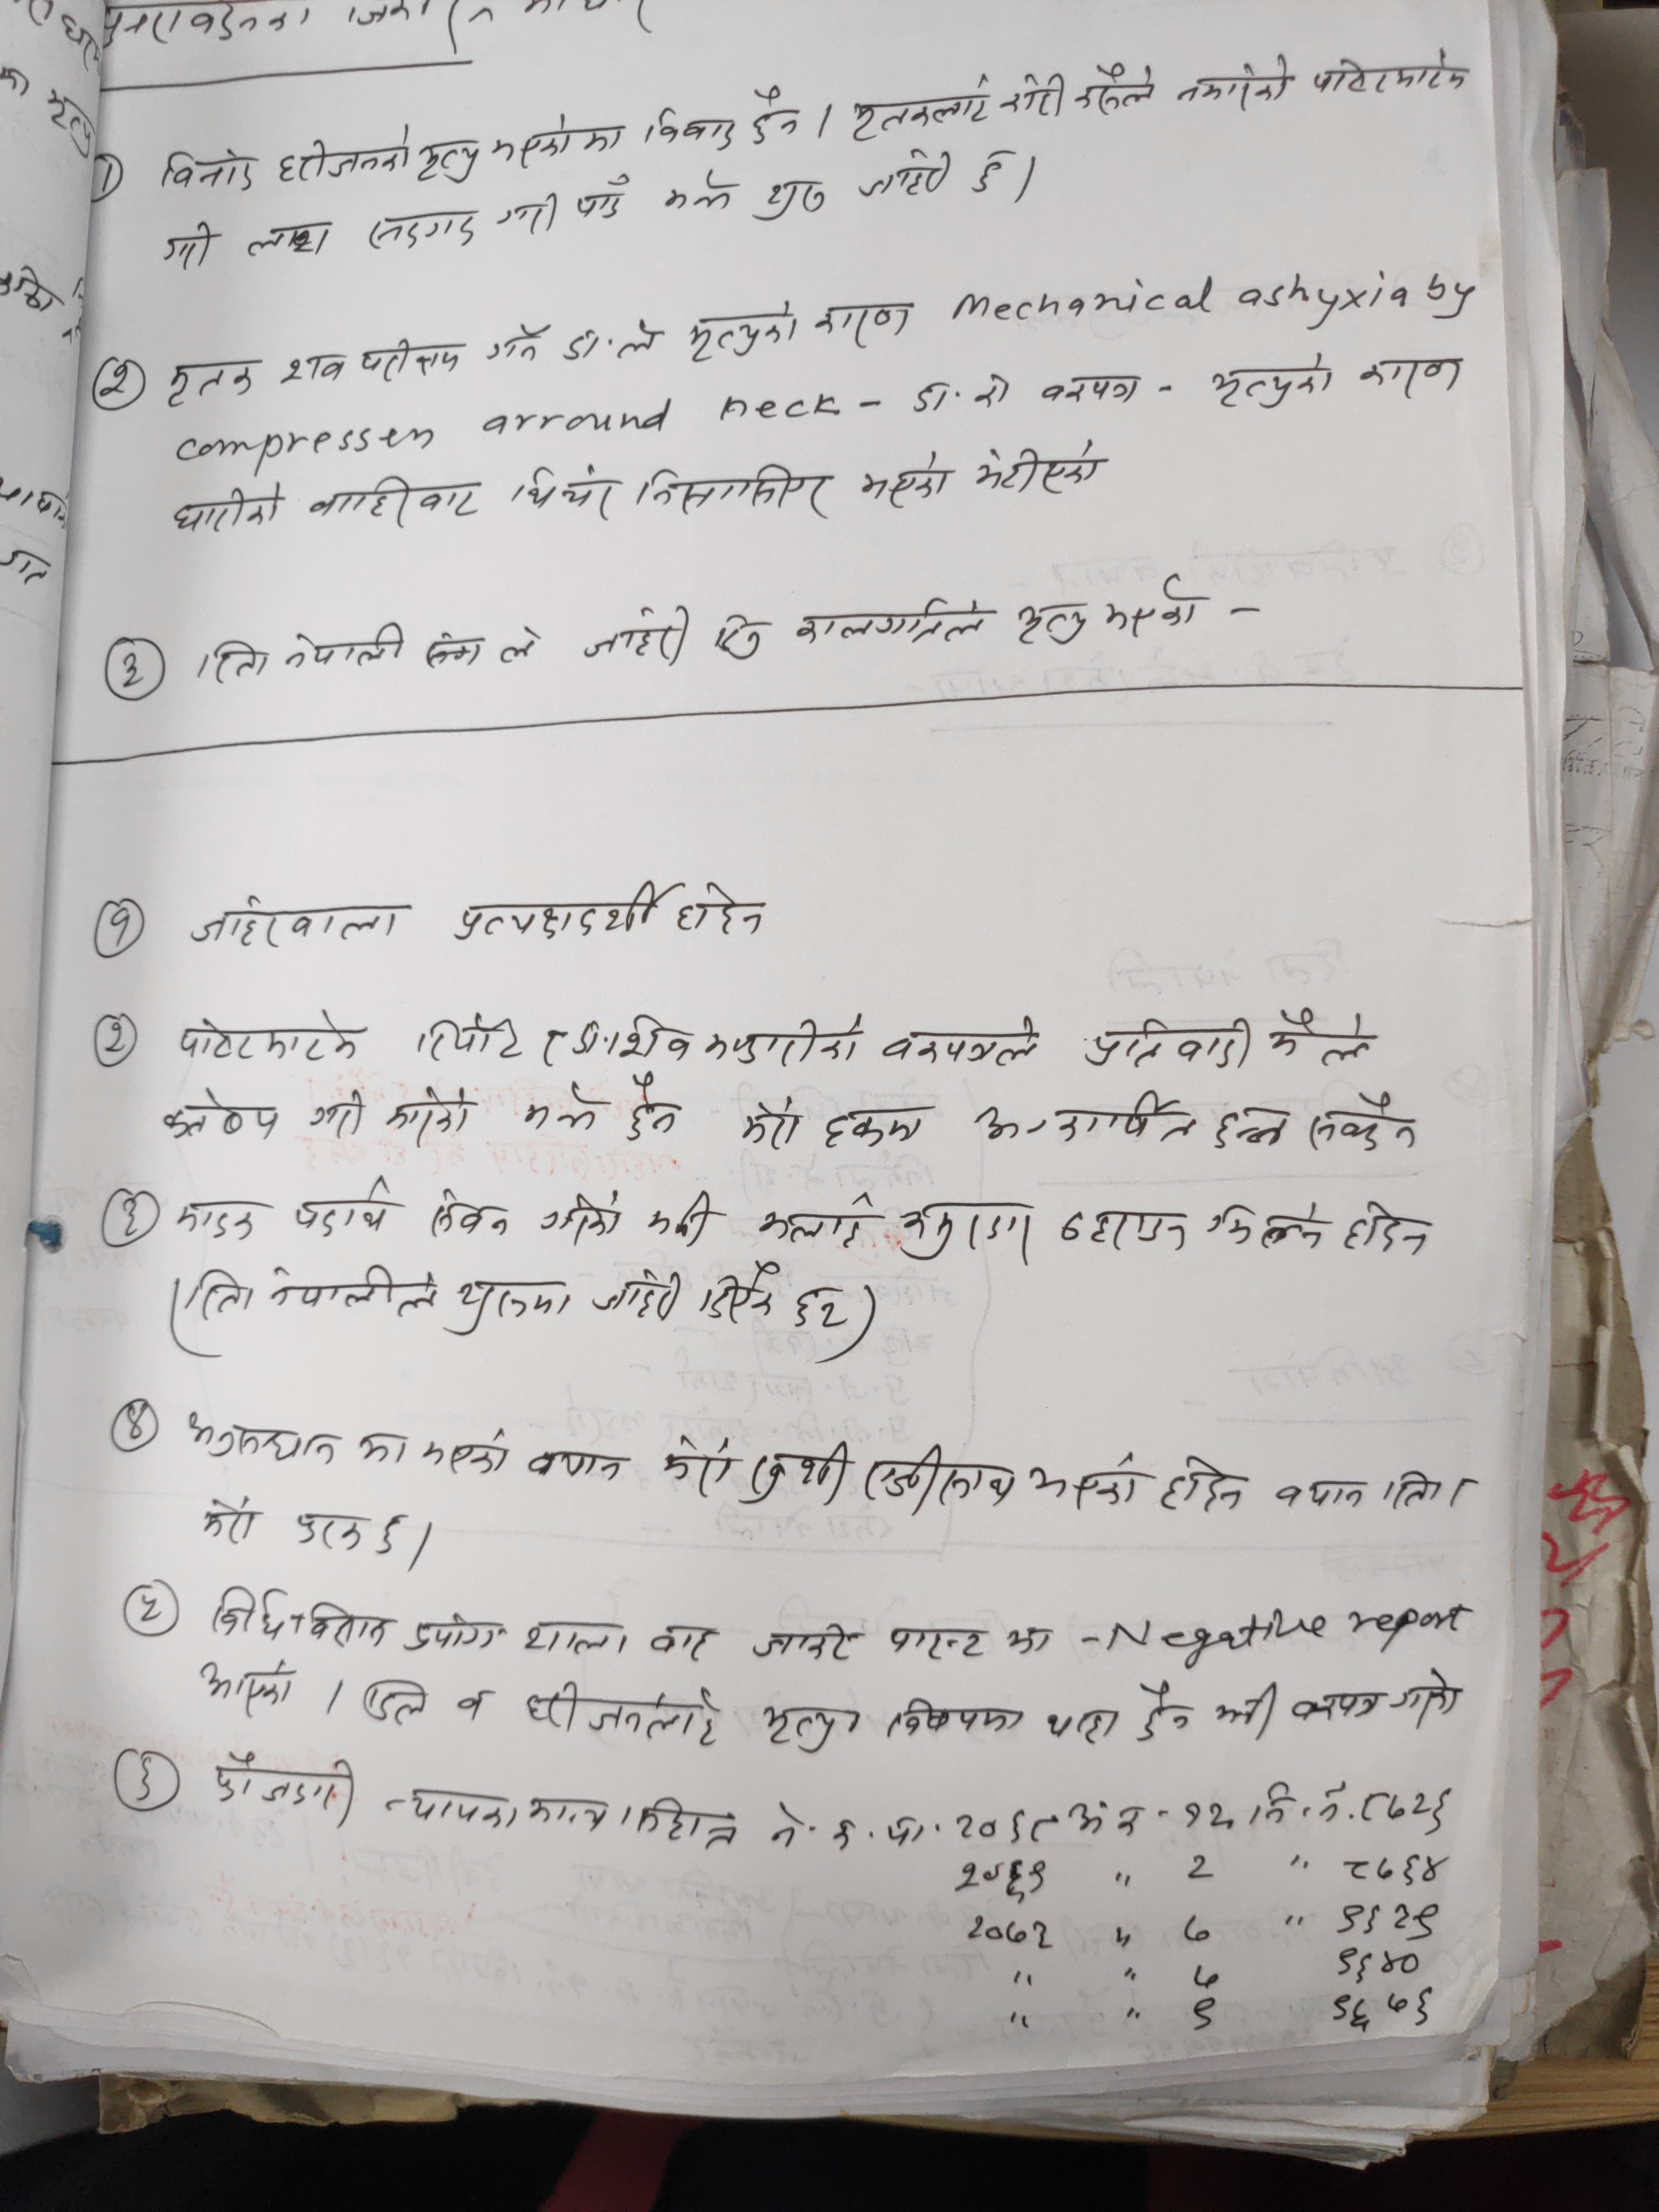text: (450, 873, 673, 941), (516, 1677, 716, 1752), (971, 1085, 1194, 1150), (633, 458, 833, 523), (209, 1749, 357, 1832), (211, 1583, 390, 1649), (861, 1444, 1021, 1517), (183, 895, 411, 946), (301, 470, 481, 529), (795, 596, 988, 650), (263, 1259, 437, 1318), (1089, 1012, 1255, 1073), (849, 71, 993, 141), (702, 1010, 864, 1069), (878, 1010, 1040, 1069), (896, 1198, 1035, 1266), (173, 1015, 362, 1064), (274, 122, 411, 188), (181, 1409, 335, 1468), (741, 1432, 849, 1512), (382, 1784, 519, 1844), (969, 441, 1101, 500), (1304, 1090, 1420, 1157), (681, 300, 803, 362), (579, 603, 694, 669), (756, 1191, 880, 1252), (451, 1275, 573, 1336), (1094, 571, 1206, 637), (1204, 1197, 1328, 1256), (1028, 1449, 1138, 1515), (1265, 1003, 1373, 1069), (1056, 1205, 1188, 1258), (288, 1174, 394, 1237), (486, 115, 622, 164), (631, 1797, 742, 1857), (514, 462, 615, 526), (157, 1089, 279, 1141), (819, 1094, 924, 1155), (1159, 1449, 1248, 1521), (169, 482, 286, 536), (281, 622, 406, 671), (1331, 1897, 1452, 1947), (885, 1698, 1025, 1742), (692, 1258, 775, 1329), (1342, 1198, 1434, 1263), (193, 1658, 295, 1716), (592, 1268, 687, 1329), (760, 1703, 864, 1757), (676, 880, 769, 941), (418, 1421, 511, 1482), (854, 448, 951, 505), (418, 1012, 525, 1064), (748, 1618, 856, 1669), (857, 146, 955, 202), (1323, 1987, 1434, 2036), (385, 1085, 471, 1148), (655, 1432, 737, 1496), (364, 207, 479, 253), (538, 1188, 624, 1249), (640, 101, 735, 155), (359, 331, 460, 381), (810, 298, 915, 347), (566, 314, 660, 368), (1070, 63, 1161, 118), (427, 1184, 516, 1240), (1356, 1787, 1459, 1834), (160, 145, 258, 193), (915, 366, 1009, 416), (884, 1620, 985, 1667), (1389, 1669, 1460, 1733), (162, 361, 253, 411), (518, 1618, 631, 1658), (1340, 1850, 1448, 1892), (519, 1078, 598, 1136), (645, 1186, 716, 1249), (1211, 1683, 1283, 1745), (1272, 1472, 1366, 1519), (617, 1078, 687, 1141), (1211, 1099, 1290, 1155), (525, 1444, 620, 1489), (1380, 1468, 1476, 1514), (612, 1008, 697, 1059), (1331, 1944, 1429, 1987), (1014, 597, 1089, 653), (183, 1266, 258, 1322), (403, 1613, 498, 1656), (1129, 1677, 1194, 1742), (173, 1198, 260, 1244), (735, 1096, 803, 1153), (359, 1674, 429, 1730), (291, 1501, 362, 1555), (1000, 66, 1068, 122), (525, 1791, 608, 1836), (192, 637, 268, 686), (1288, 1688, 1377, 1730), (1039, 374, 1143, 409), (1039, 1703, 1122, 1747), (193, 1494, 260, 1548), (247, 218, 331, 260), (308, 1089, 373, 1139), (748, 84, 802, 143), (648, 1618, 716, 1665), (418, 134, 483, 183), (756, 179, 830, 221), (493, 192, 561, 235), (711, 606, 763, 662), (664, 171, 735, 211), (279, 348, 347, 390), (486, 320, 547, 366), (159, 221, 214, 270), (572, 176, 631, 219), (789, 1287, 849, 1329), (965, 146, 1018, 192), (352, 1428, 408, 1470), (999, 1623, 1054, 1660), (497, 627, 542, 671), (94, 362, 139, 402), (570, 1010, 605, 1057), (373, 1512, 406, 1559), (131, 1749, 160, 1801), (112, 1195, 146, 1237), (117, 650, 152, 690), (132, 1587, 164, 1629), (542, 1021, 568, 1069), (101, 906, 134, 944), (99, 1021, 129, 1059), (122, 1407, 146, 1440)
